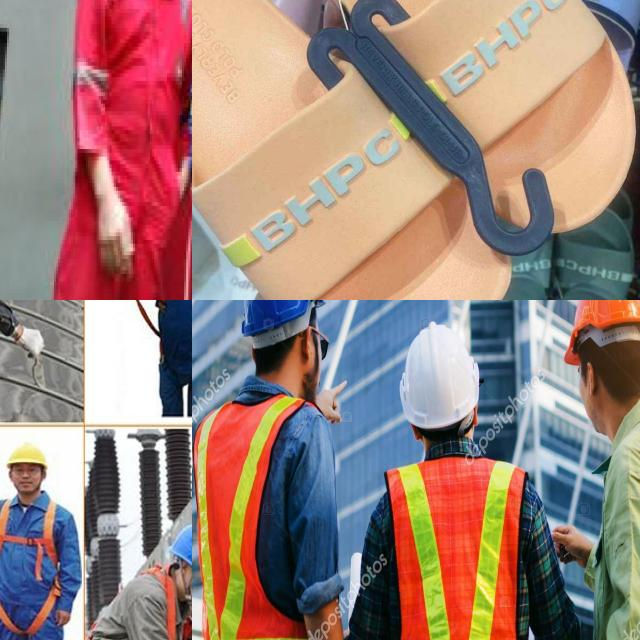Harness: (0, 494, 61, 627)
No_Ear-Protection: (581, 358, 599, 400), (302, 320, 318, 364)
Sandals: (192, 0, 640, 300)
head_helmet: (395, 313, 488, 431), (564, 300, 640, 355), (229, 300, 326, 336)
person: (353, 310, 565, 640), (192, 300, 357, 640), (563, 300, 640, 640)
vest: (367, 449, 551, 640), (192, 395, 327, 640)
